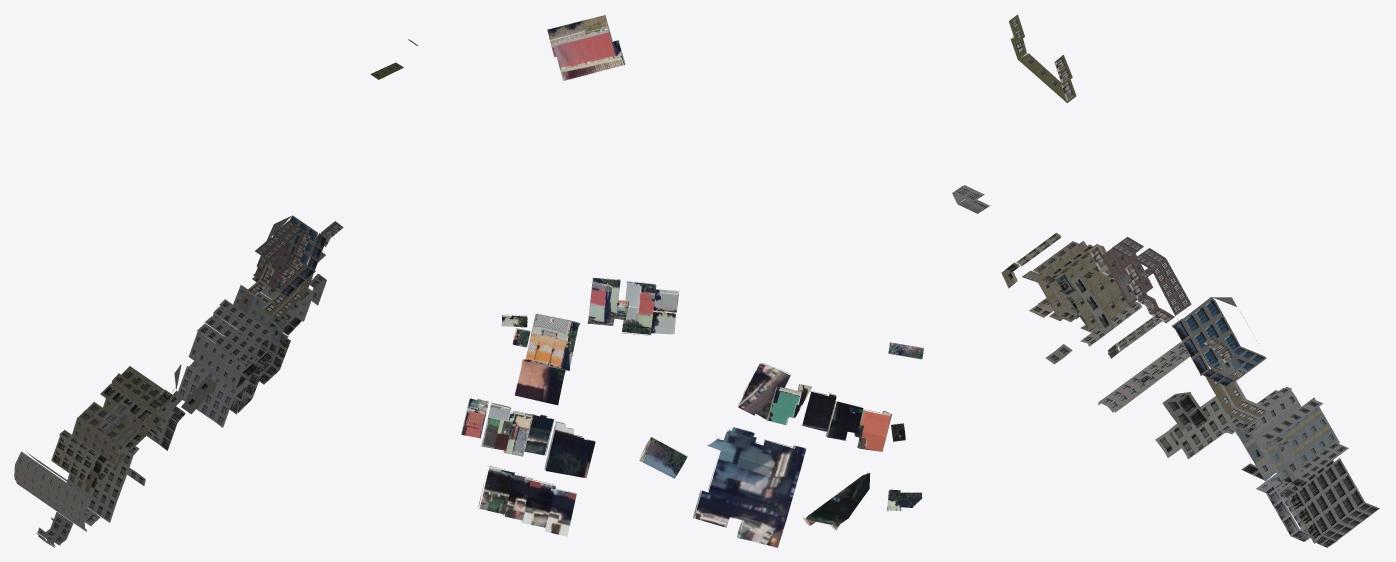
The model's file is tile_LOD4_r8_c13.glb.
3 renders of one model, left to right at view 1: azimuth 30°, elevation 25°; view 2: azimuth 150°, elevation 25°; view 3: azimuth 270°, elevation 25°, orthographic. The views are drawn at different scales.
Bounding box in the file's own units: 152 × 173 × 117.
Materials: 114 (114 with a texture image).
